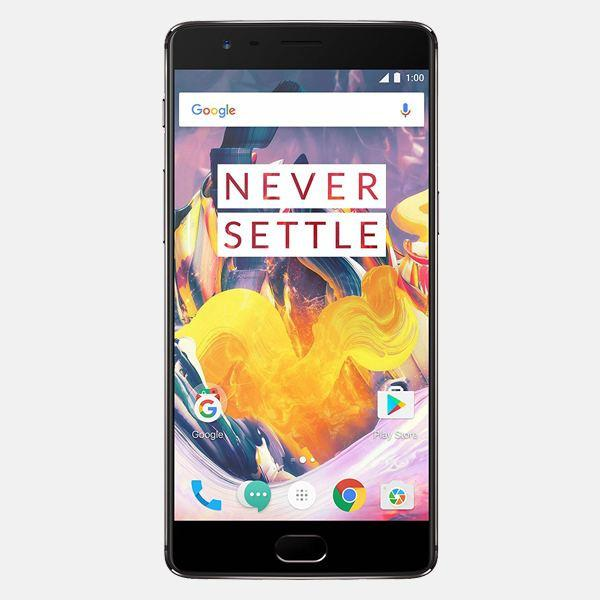mobile: (154, 13, 448, 581)
